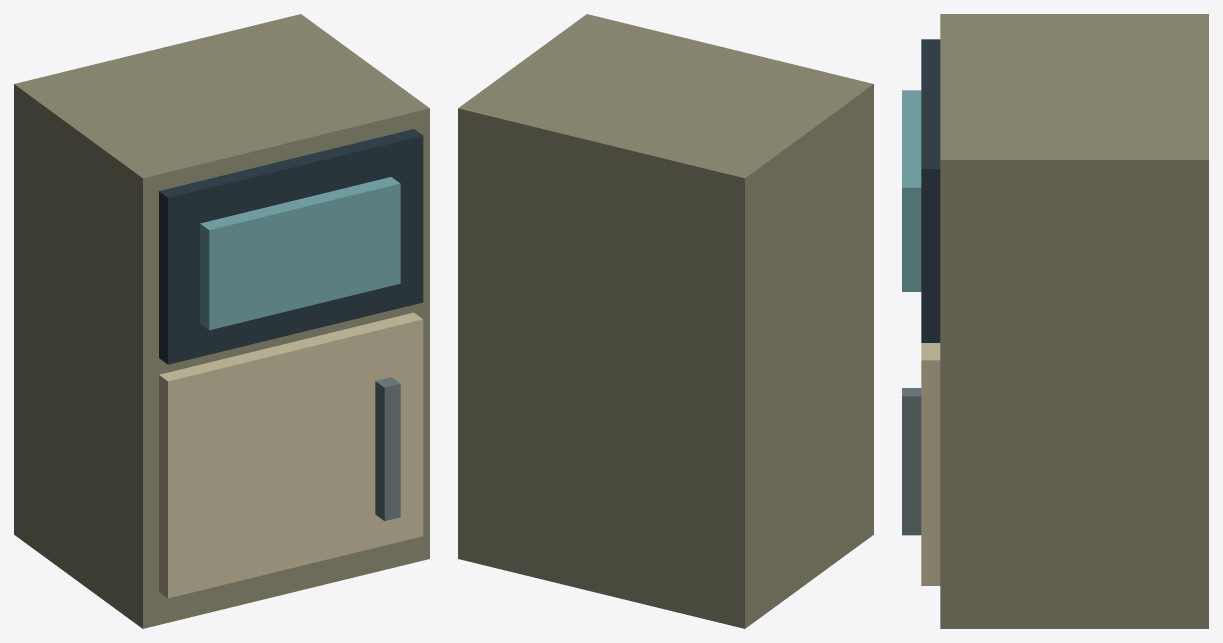
The model's file is civic-10.glb.
3 renders of one model, left to right at view 1: azimuth 30°, elevation 25°; view 2: azimuth 150°, elevation 25°; view 3: azimuth 270°, elevation 25°, orthographic. The views are drawn at different scales.
Visible parts, largest first — view 1: Service kiosk; view 2: Service kiosk; view 3: Service kiosk.
Part boxes in pixels (x1,y1,x2,y2): Service kiosk: (14, 14, 429, 628); Service kiosk: (458, 14, 873, 628); Service kiosk: (902, 14, 1208, 628).
Size of the model in its own units: 1.44 by 2.16 by 1.28.
